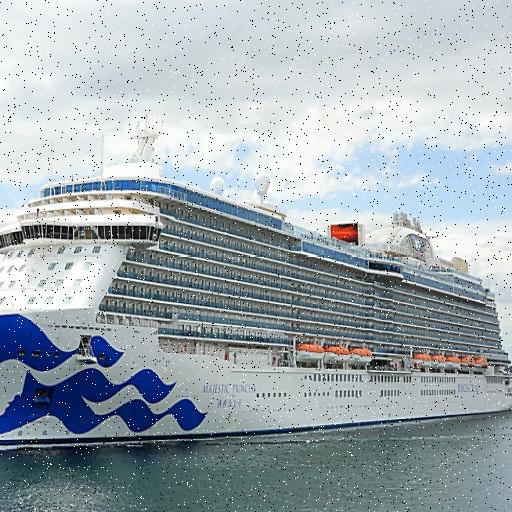cruises: (1, 115, 512, 446)
